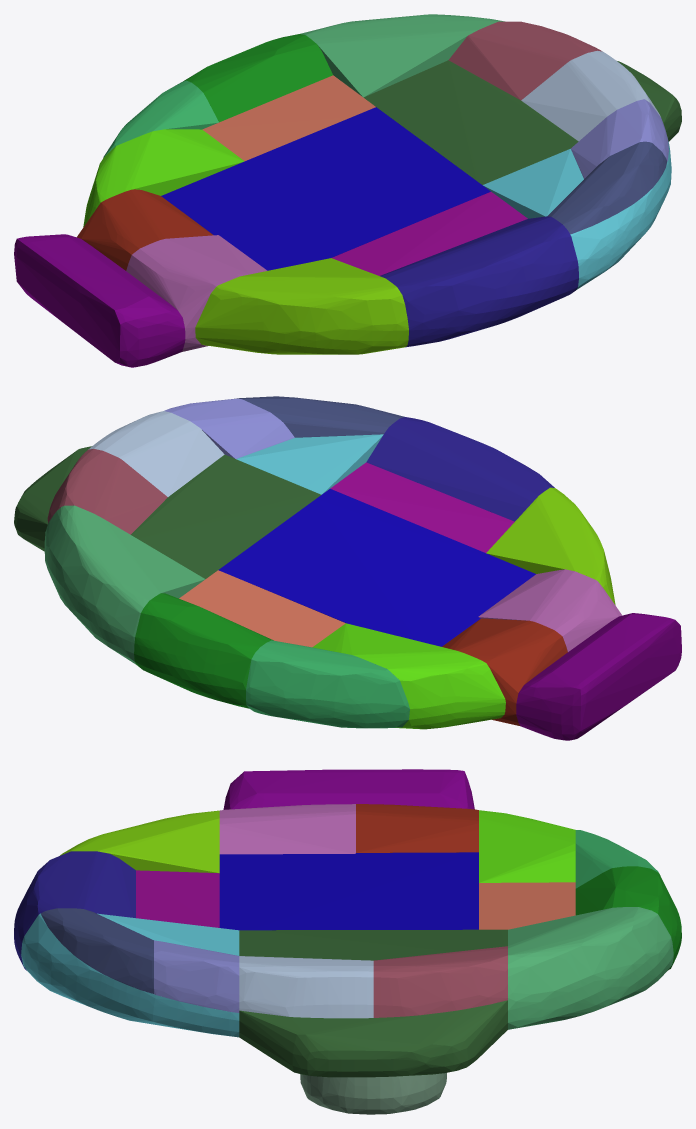
Rendered from top_cd.obj.
3 views of the same model, one above another, from view 1: azimuth 30°, elevation 25°; view 2: azimuth 150°, elevation 25°; view 3: azimuth 270°, elevation 25° (orthographic). The views are drawn at different scales.
Parts seen in each view (by area): view 1: geometry_5, geometry_4, geometry_18, geometry_19, geometry_11, geometry_3, geometry_2, geometry_17, geometry_7, geometry_8, geometry_9, geometry_13 (+6 smaller); view 2: geometry_5, geometry_19, geometry_3, geometry_11, geometry_10, geometry_18, geometry_17, geometry_8, geometry_4, geometry_14, geometry_6, geometry_7 (+6 smaller); view 3: geometry_19, geometry_5, geometry_3, geometry_2, geometry_11, geometry_6, geometry_13, geometry_7, geometry_18, geometry_17, geometry_4, geometry_15 (+7 smaller).
Part boxes in pixels (x1=…): geometry_5: x1=161, y1=107, x2=490, y2=270; geometry_4: x1=195, y1=258, x2=408, y2=354; geometry_18: x1=380, y1=216, x2=578, y2=347; geometry_19: x1=363, y1=60, x2=681, y2=184; geometry_11: x1=14, y1=234, x2=185, y2=367; geometry_3: x1=300, y1=14, x2=504, y2=97; geometry_2: x1=483, y1=141, x2=671, y2=289; geometry_17: x1=83, y1=129, x2=244, y2=226; geometry_7: x1=126, y1=235, x2=267, y2=351; geometry_8: x1=183, y1=34, x2=332, y2=122; geometry_9: x1=202, y1=75, x2=375, y2=160; geometry_13: x1=448, y1=21, x2=602, y2=100; geometry_5: x1=218, y1=488, x2=535, y2=646; geometry_19: x1=14, y1=446, x2=321, y2=578; geometry_3: x1=44, y1=505, x2=205, y2=664; geometry_11: x1=516, y1=613, x2=681, y2=740; geometry_10: x1=246, y1=640, x2=409, y2=728; geometry_18: x1=366, y1=417, x2=554, y2=521; geometry_17: x1=312, y1=623, x2=505, y2=729; geometry_8: x1=134, y1=593, x2=273, y2=708; geometry_4: x1=486, y1=487, x2=615, y2=605; geometry_14: x1=330, y1=462, x2=514, y2=552; geometry_6: x1=88, y1=411, x2=224, y2=496; geometry_7: x1=478, y1=569, x2=622, y2=651; geometry_19: x1=239, y1=929, x2=507, y2=1077; geometry_5: x1=219, y1=852, x2=478, y2=930; geometry_3: x1=508, y1=907, x2=673, y2=1029; geometry_2: x1=21, y1=913, x2=239, y2=1037; geometry_11: x1=223, y1=769, x2=474, y2=809; geometry_6: x1=239, y1=956, x2=373, y2=1018; geometry_13: x1=373, y1=946, x2=507, y2=1017; geometry_7: x1=219, y1=804, x2=355, y2=854; geometry_18: x1=14, y1=851, x2=135, y2=970; geometry_17: x1=479, y1=810, x2=575, y2=882; geometry_4: x1=60, y1=810, x2=219, y2=873; geometry_15: x1=356, y1=804, x2=478, y2=852.
Bounding box in the file's own units: 204 × 49.51 × 174.
